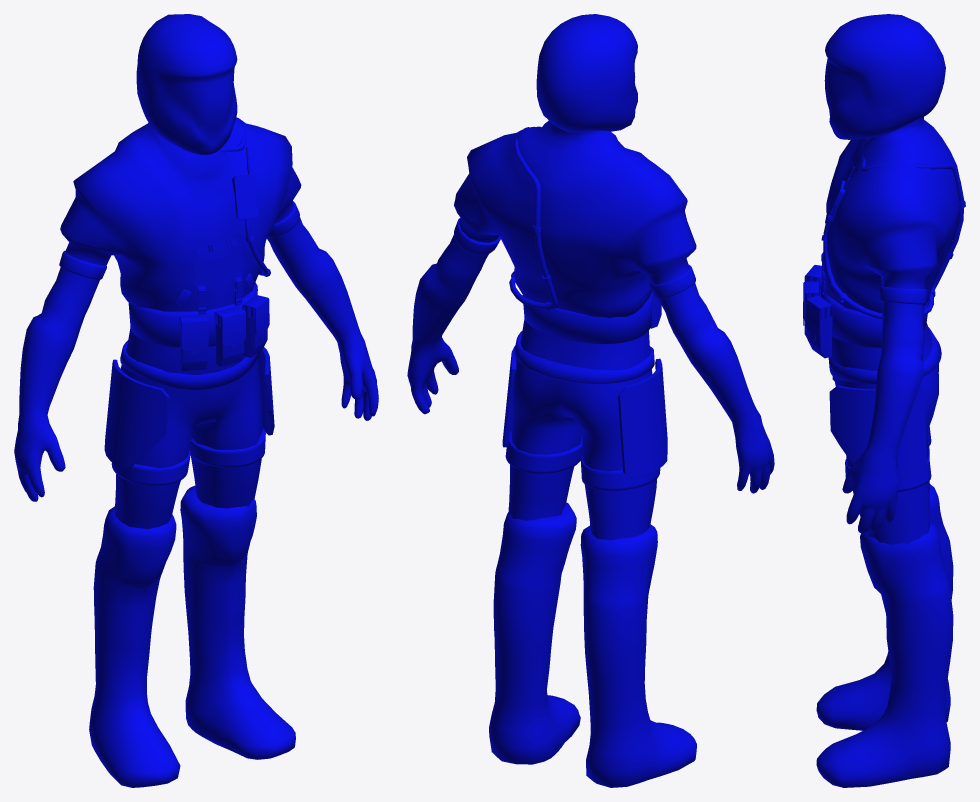
The model's file is Merc_gameReady.FBX.
3 views of the same model, side by side, from view 1: azimuth 30°, elevation 25°; view 2: azimuth 150°, elevation 25°; view 3: azimuth 270°, elevation 25° (orthographic).
Parts seen in each view (by area): view 1: Merc_Low; view 2: Merc_Low; view 3: Merc_Low.
Part boxes in pixels (x1,y1,x2,y2): Merc_Low: (14,14,378,787); Merc_Low: (407,14,774,787); Merc_Low: (803,14,965,787).
Bounding box in the file's own units: 35.69 × 70.6 × 14.28.
